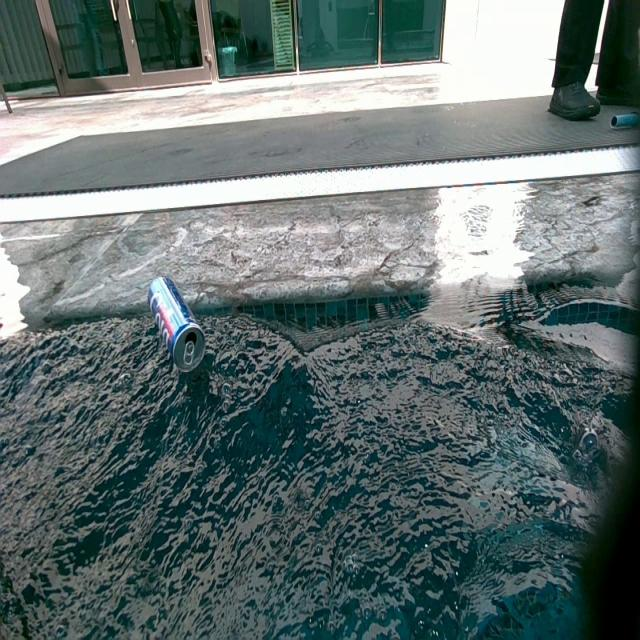Cans: (147, 272, 206, 374)
